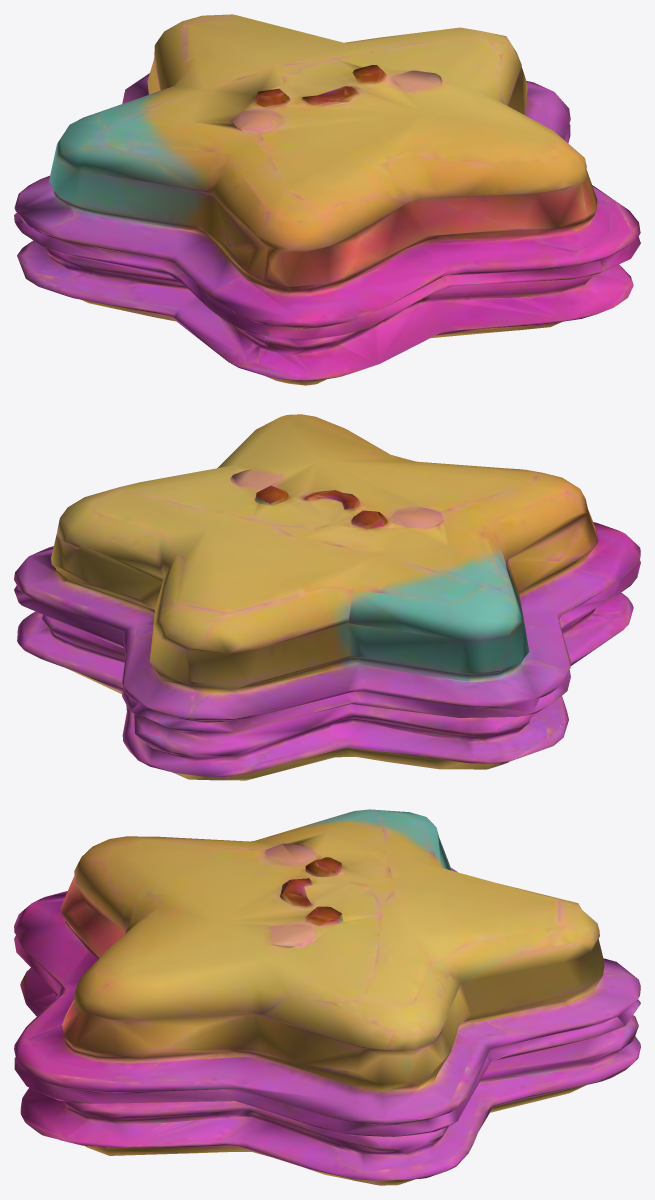
3 renders of one model, top to bottom at view 1: azimuth 30°, elevation 25°; view 2: azimuth 150°, elevation 25°; view 3: azimuth 270°, elevation 25°, orthographic. The views are drawn at different scales.
Parts seen in each view (by area): view 1: material; view 2: material; view 3: material.
Part boxes in pixels (box(x1,y1,x2,y2)): material: box(14, 14, 640, 385); material: box(14, 414, 640, 780); material: box(14, 809, 640, 1185).
Bounding box in the file's own units: 1 × 0.3703 × 0.9922.
1 material, 1 textured.
